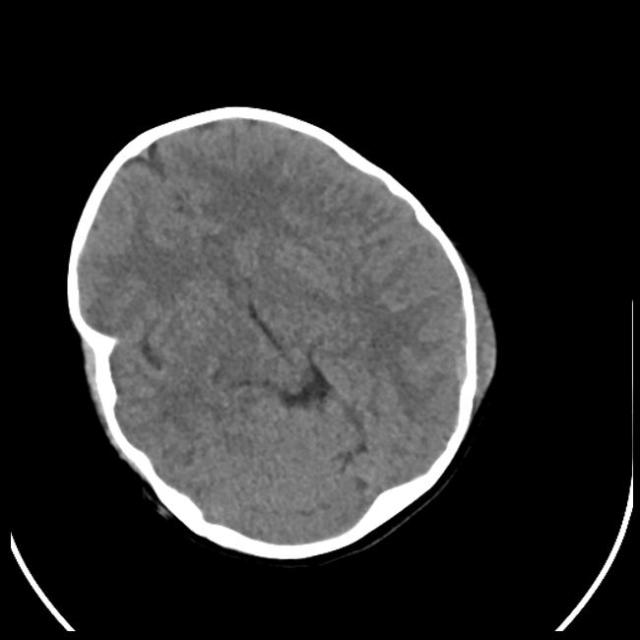lesion: (63, 104, 499, 562)
